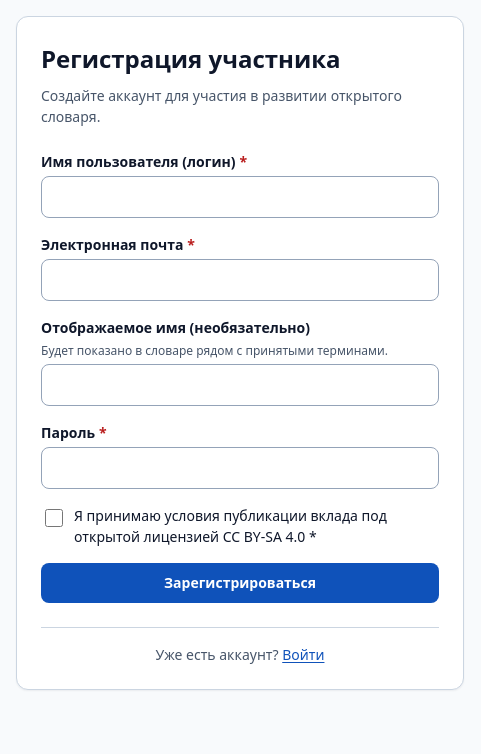
RegisterPage and AcceptTermsBanner › requires the accept_terms checkbox before submitting
In the field labelled "Имя пользователя (логин)*": [240, 197] box 41,176 -> 439,218, type "new_participant"
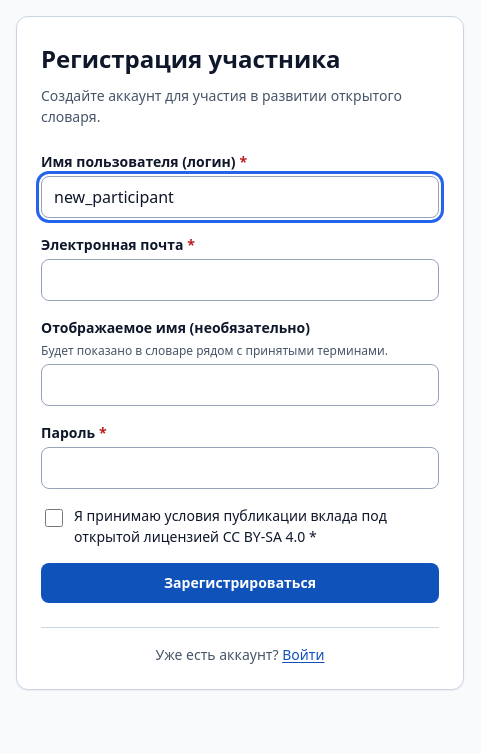
In the field labelled "Электронная почта*": [240, 280] box 41,259 -> 439,301, type "new@example.com"
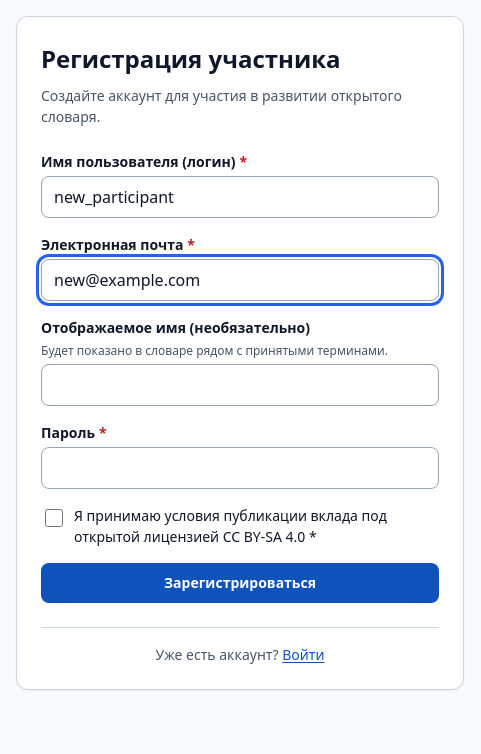
In the password field labelled "Пароль*": [240, 468] box 41,447 -> 439,489, type "StrongPass123!"
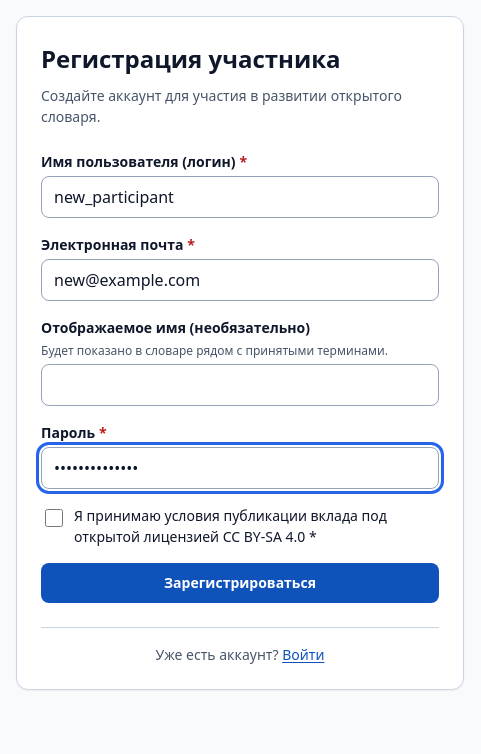
Click the button "Зарегистрироваться": [240, 583] box 41,563 -> 439,603
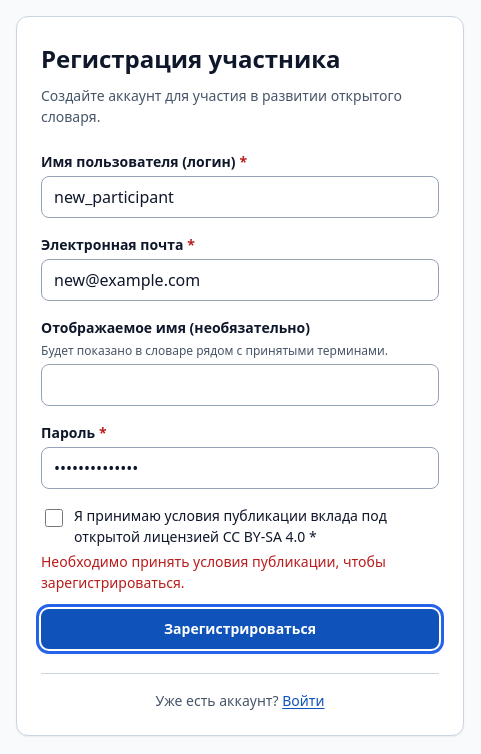
Result: the text "Необходимо принять условия публикации, чтобы зарегистрироваться." is shown at 41,551 -> 439,593
